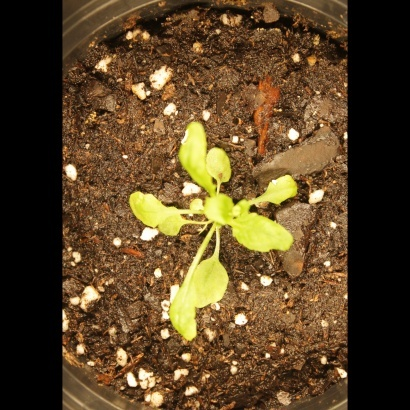leaf: (171, 117, 213, 195), (229, 213, 300, 257), (168, 264, 199, 346), (193, 255, 234, 307), (126, 188, 175, 230), (263, 172, 315, 209), (204, 141, 235, 189), (156, 204, 186, 247), (205, 191, 237, 227)
